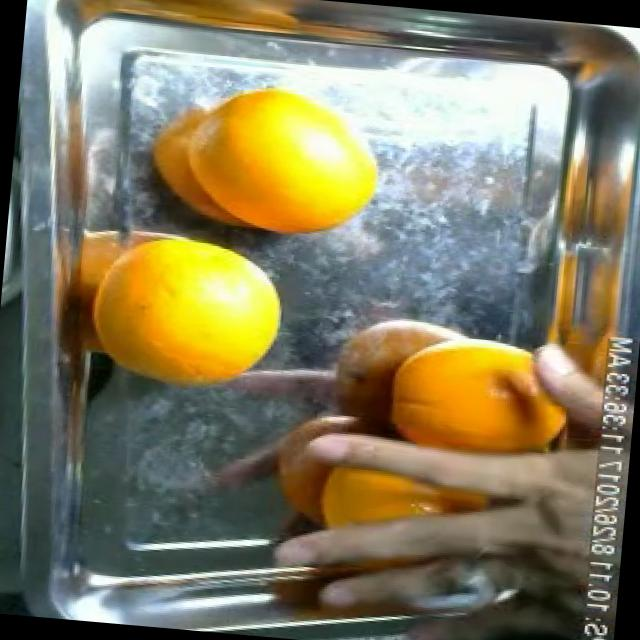Fruit: (190, 59, 406, 256), (94, 220, 305, 416), (0, 579, 51, 617)
